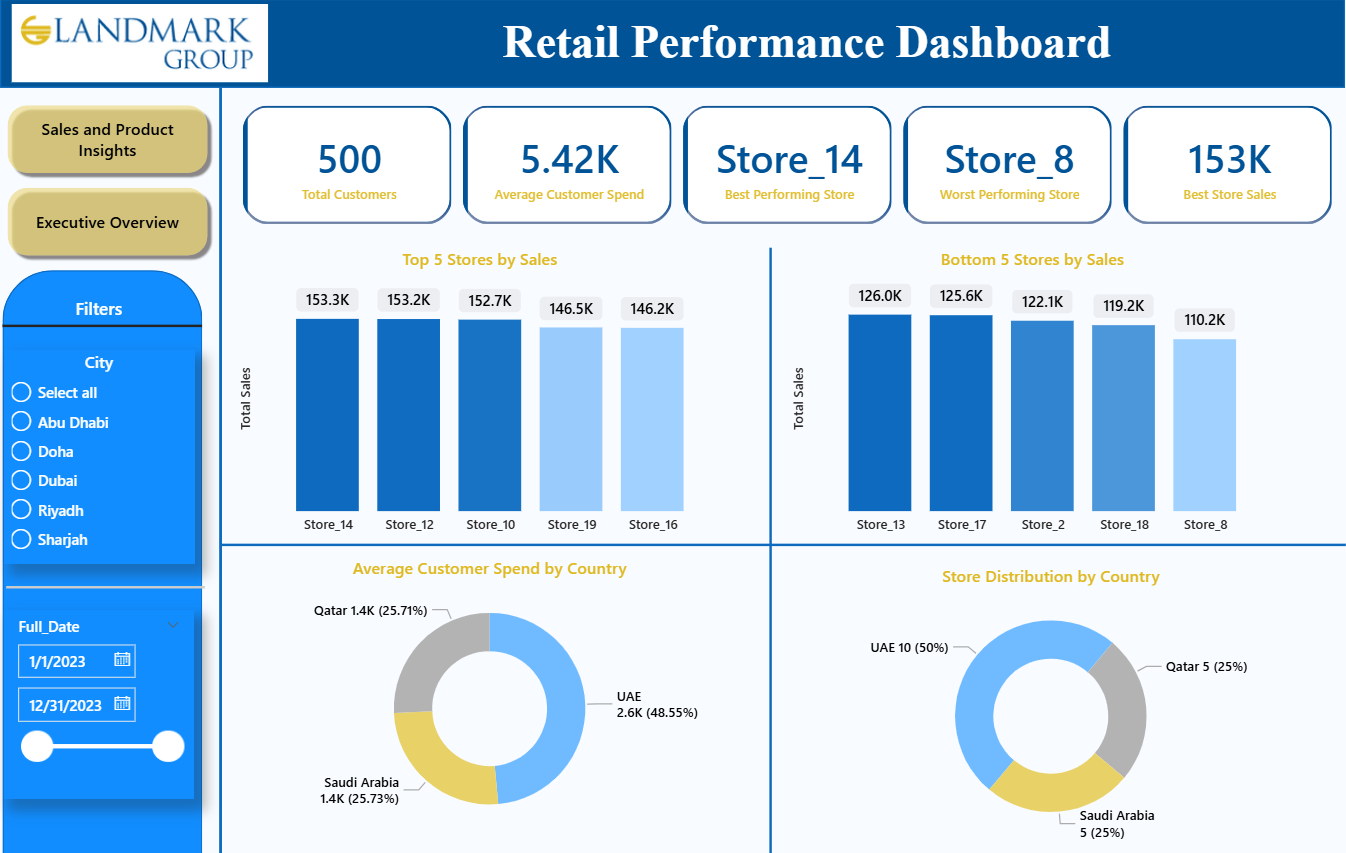

What the dashboard file says about the page in this screenshot:
{"tool":"powerbi","page":{"name":"Customer and Store Insights","canvas":[1100,700],"ordinal":2},"visuals":[{"type":"shape","box":[0,0,1099.9,72.6],"z":0},{"type":"image","box":[0,4.1,229,64.4],"z":1000},{"type":"textbox","box":[396.6,8.2,526.4,60.3],"z":2000},{"type":"cardVisual","fields":{"Data":["Measure of Customer and Store Insights.Total Customers","Measure of Customer and Store Insights.Average Customer Spend","Measure of Customer and Store Insights.Best Performing Store","Measure of Customer and Store Insights.Worst Performing Store","Measure of Customer and Store Insights.Best Store Sales"]},"box":[192.2,80.8,903.6,109.4],"z":3000},{"type":"shape","box":[151.3,72.6,58.3,627.6],"z":4000},{"type":"shape","box":[2,221.8,163.6,478.4],"z":5000},{"type":"textbox","box":[51.1,238.2,59.3,35.8],"z":6000},{"type":"listSlicer","fields":{"Values":["dim_store.City"]},"box":[3.6,287.5,155.6,174.7],"z":7000},{"type":"shape","box":[2,248.4,163.6,37.8],"z":8000},{"type":"slicer","fields":{"Values":["dim_date.Full_Date"]},"box":[2.4,500.2,156.8,154.5],"z":9000},{"type":"shape","box":[4.8,462.2,162.8,38],"z":10000},{"type":"columnChart","title":"Top 5 Stores by Sales","fields":{"Category":["dim_store.Store_Name"],"Y":["Measures Executive Overview.Total Sales"]},"box":[192.5,203.2,400.4,243.6],"z":11000},{"type":"columnChart","title":"Bottom 5 Stores by Sales","fields":{"Category":["dim_store.Store_Name"],"Y":["Measures Executive Overview.Total Sales"]},"box":[644,203.2,400.4,243.6],"z":12000},{"type":"shape","box":[601.2,203.2,58.2,496.7],"z":13000},{"type":"shape","box":[180.6,412.3,919.6,68.9],"z":14000},{"type":"donutChart","title":"Average Customer Spend by Country","fields":{"Category":["dim_store.Country"],"Y":["Measure of Customer and Store Insights.Average Customer Spend"]},"box":[200.8,456.3,400.4,231.7],"z":15000},{"type":"donutChart","title":"Store Distribution by Country","fields":{"Category":["dim_store.Country"],"Y":["Measure of Customer and Store Insights.Total Store"]},"box":[659.4,462.2,400.4,231.7],"z":16000},{"type":"shape","box":[151.3,72.4,58.3,627.6],"z":17000},{"type":"actionButton","box":[0,80.8,175.8,67.7],"z":18000},{"type":"actionButton","box":[0,148.5,175.8,67.7],"z":19000}]}

Visuals, with their boxes in screenshot pixels (x1, y1, x2, y2), scaled from the page's 1100x700 canvas onto the 1346x853 screenshot:
shape: locate(0, 0, 1345, 88)
image: locate(0, 5, 280, 83)
textbox: locate(485, 10, 1129, 83)
cardVisual - Measure of Customer and Store Insights.Total Customers x Measure of Customer and Store Insights.Average Customer Spend: locate(235, 98, 1341, 232)
shape: locate(185, 88, 256, 852)
shape: locate(2, 270, 203, 852)
textbox: locate(63, 290, 135, 334)
listSlicer - dim_store.City: locate(4, 350, 195, 563)
shape: locate(2, 303, 203, 349)
slicer - dim_date.Full_Date: locate(3, 610, 195, 798)
shape: locate(6, 563, 205, 610)
"Top 5 Stores by Sales" columnChart: locate(236, 248, 725, 544)
"Bottom 5 Stores by Sales" columnChart: locate(788, 248, 1278, 544)
shape: locate(736, 248, 807, 852)
shape: locate(221, 502, 1345, 586)
"Average Customer Spend by Country" donutChart: locate(246, 556, 736, 838)
"Store Distribution by Country" donutChart: locate(807, 563, 1297, 846)
shape: locate(185, 88, 256, 852)
actionButton: locate(0, 98, 215, 181)
actionButton: locate(0, 181, 215, 263)
